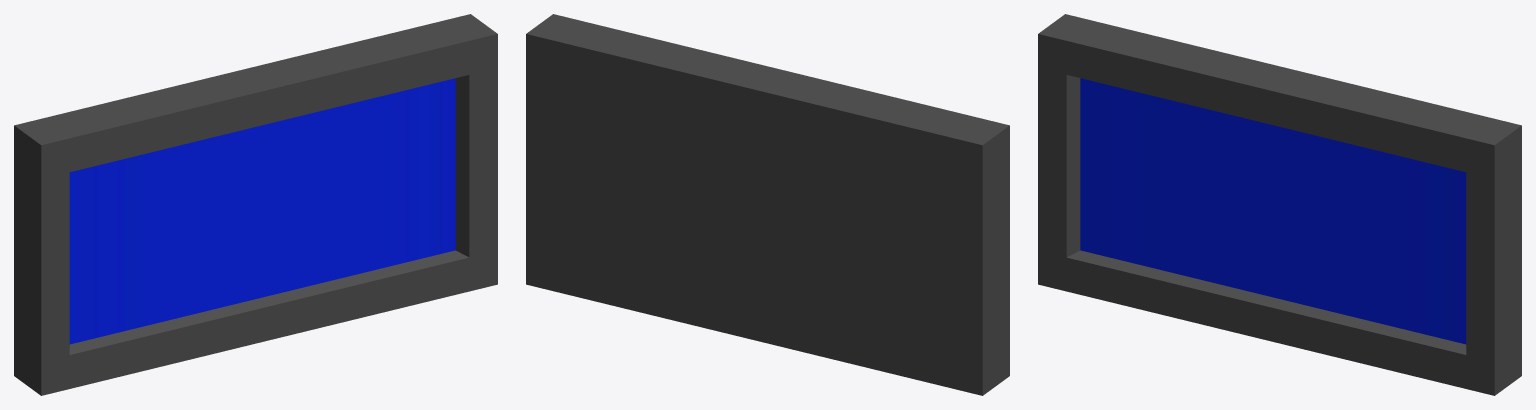
The model's file is SM_Screen.fbx.
3 views of the same model, side by side, from view 1: azimuth 30°, elevation 25°; view 2: azimuth 150°, elevation 25°; view 3: azimuth 330°, elevation 25° (orthographic).
Visible parts, largest first — view 1: SM_Screen; view 2: SM_Screen; view 3: SM_Screen.
Part boxes in pixels (x1,y1,x2,y2): SM_Screen: (14, 14, 497, 395); SM_Screen: (526, 14, 1009, 395); SM_Screen: (1038, 14, 1521, 395).
Size of the model in its own units: 154 by 80.92 by 15.91.
1 material, 1 textured.
